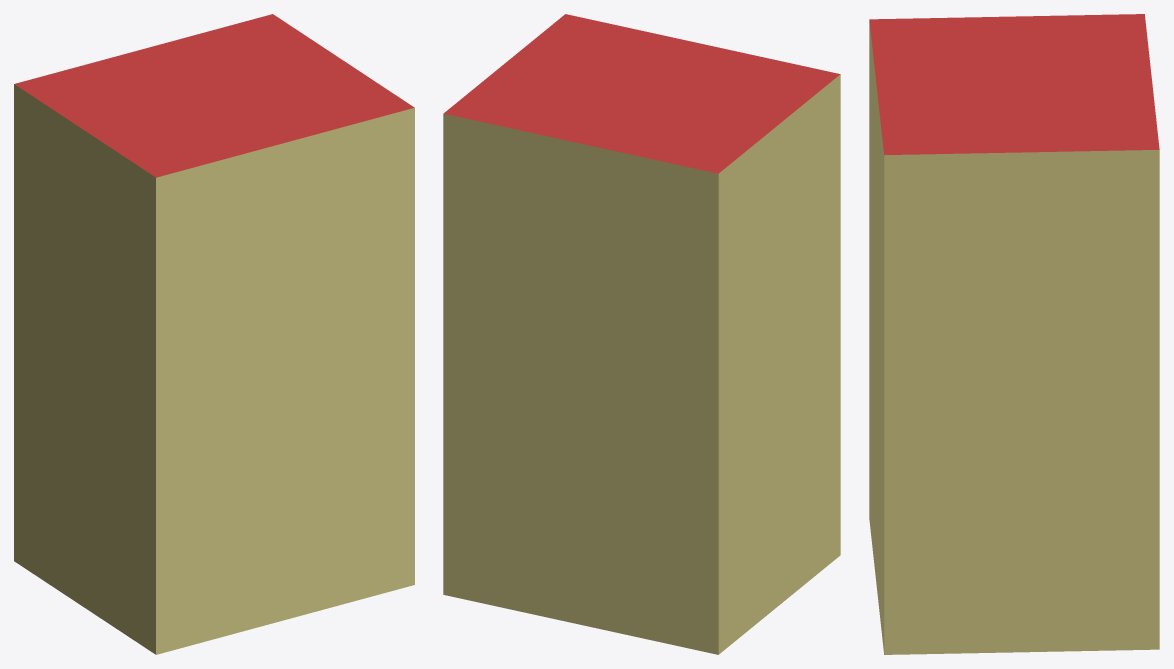
The picture shows the model from 3 angles, left to right: view 1: azimuth 30°, elevation 25°; view 2: azimuth 150°, elevation 25°; view 3: azimuth 270°, elevation 25°; orthographic projection. The views are drawn at different scales.
Bounding box in the file's own units: 3.63 × 3.15 × 5.99.
